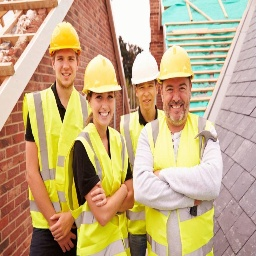helmet: (81, 54, 122, 99), (158, 44, 194, 87), (48, 20, 84, 59), (131, 47, 158, 88)
person: (144, 44, 218, 256), (18, 19, 84, 256), (71, 56, 131, 256)
vest: (147, 122, 215, 256), (23, 90, 84, 221), (76, 128, 130, 256)
